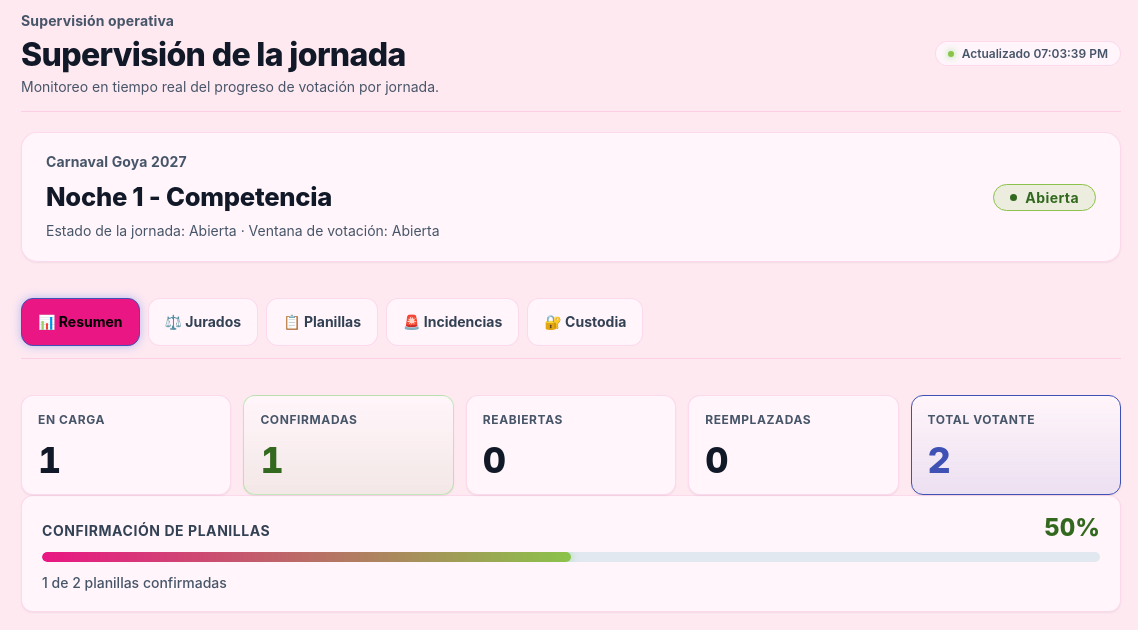
VeedorMonitorModule (Capítulo V - Veeduría Integral) › renderiza pestañas de navegación y permite explorar Jurados
Expected: the heading "Noche 1 - Competencia" is shown, [46, 181, 332, 212]
Expected: the tab "📊 Resumen" is shown, [21, 298, 140, 346]
Navegar a Jurados
Click the tab "⚖️ Jurados": x=203, y=322 [148, 298, 258, 346]
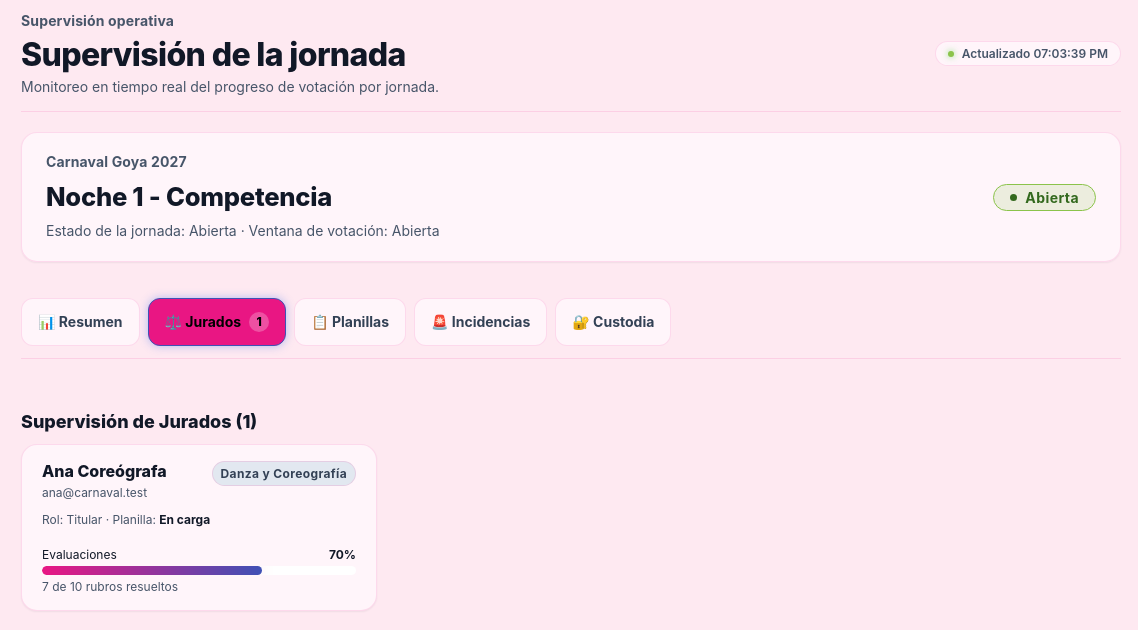
Now the heading "Ana Coreógrafa" is shown, box [42, 461, 167, 481]
Now the text "70%" is shown, box [329, 547, 356, 562]
Now the text "7 de 10 rubros resueltos" is shown, box [42, 579, 178, 594]
